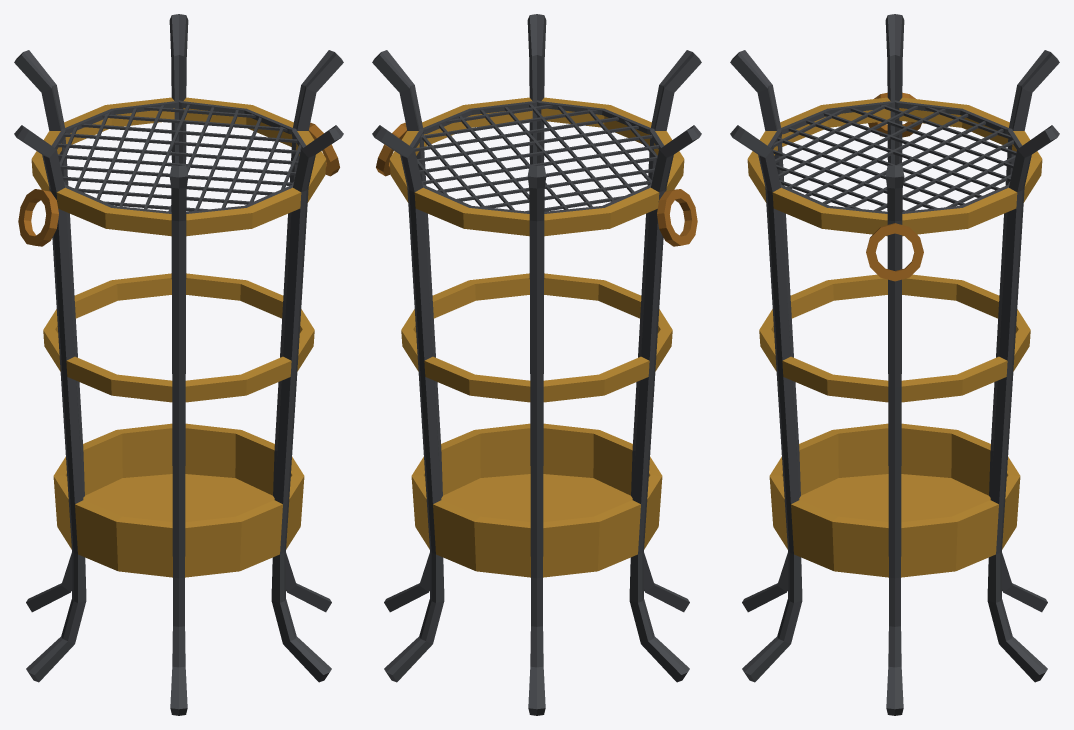
The model's file is Floor_Torch.fbx.
3 views of the same model, side by side, from view 1: azimuth 30°, elevation 25°; view 2: azimuth 150°, elevation 25°; view 3: azimuth 270°, elevation 25° (orthographic).
Parts seen in each view (by area): view 1: Floor Torch; view 2: Floor Torch; view 3: Floor Torch.
Part boxes in pixels (<box>): Floor Torch: <box>14,14,343,715</box>; Floor Torch: <box>372,14,701,715</box>; Floor Torch: <box>730,14,1059,715</box>.
Size of the model in its own units: 103 by 168 by 90.55.
